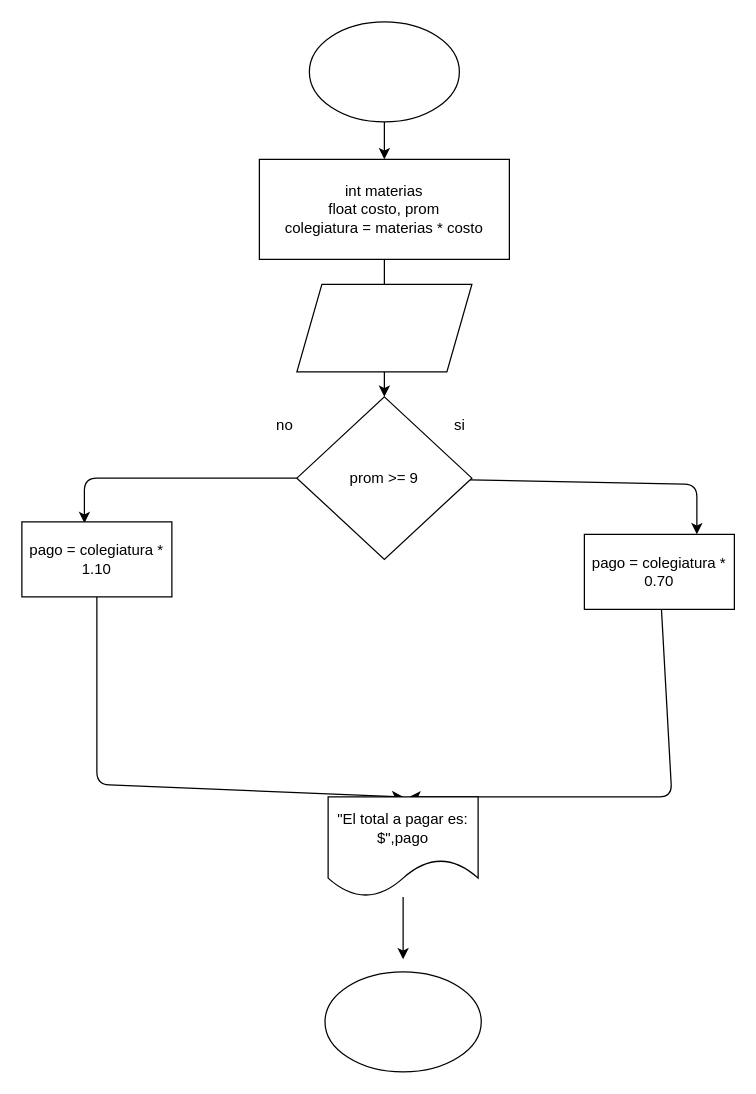
Some shapes in this 756 by 1094 pixel diagram are drawn without their labels. The shapes that lost their labels are listed below. From the top down, each one's centre as x and y in pixels, then its label:
At point 383,71: "inicio".
At point 384,327: "materias, costo, prom".
At point 402,1021: "FIN".
